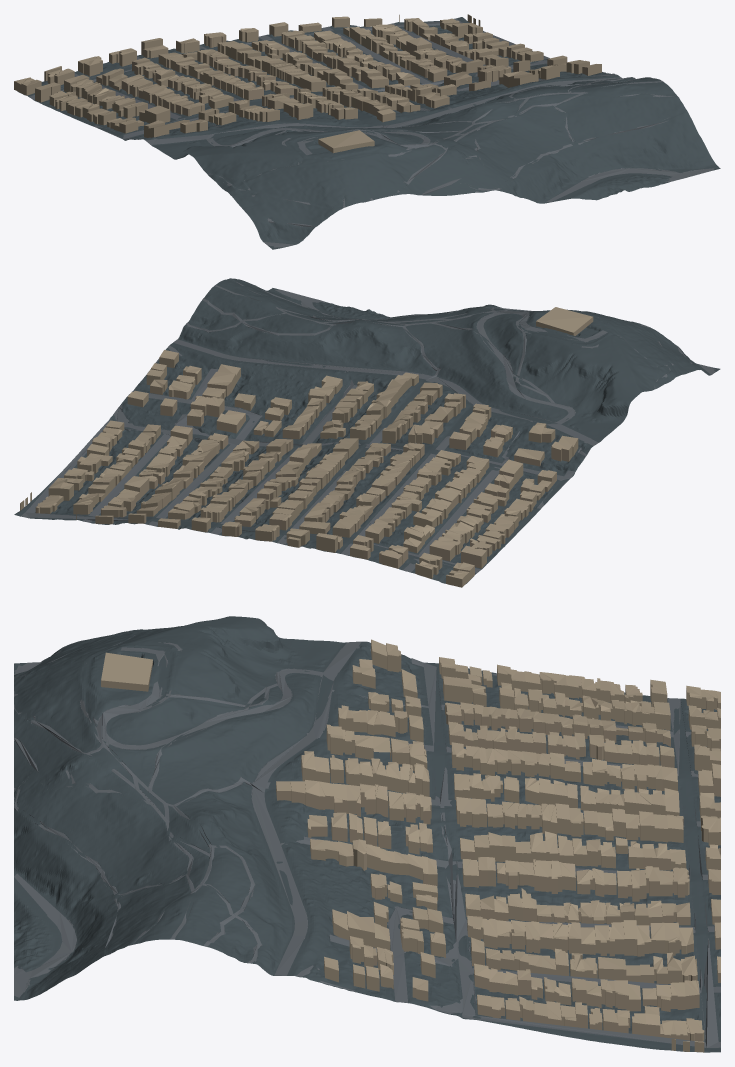
Rendered from epsg26910-1436-10878.lod0.glb.
3 renders of one model, top to bottom at view 1: azimuth 30°, elevation 25°; view 2: azimuth 150°, elevation 25°; view 3: azimuth 270°, elevation 25°, orthographic. The views are drawn at different scales.
Visible parts, largest first — view 1: epsg26910-1436-10878-lod0; view 2: epsg26910-1436-10878-lod0; view 3: epsg26910-1436-10878-lod0.
Boxes of the visible parts, box(x1,y1,x2,y2) form: epsg26910-1436-10878-lod0: box(14, 14, 720, 249); epsg26910-1436-10878-lod0: box(14, 278, 720, 587); epsg26910-1436-10878-lod0: box(14, 616, 720, 1052).
Bounding box in the file's own units: 384 × 98.34 × 384.
